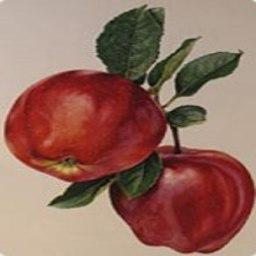apple: (0, 70, 166, 185), (108, 152, 255, 255)
